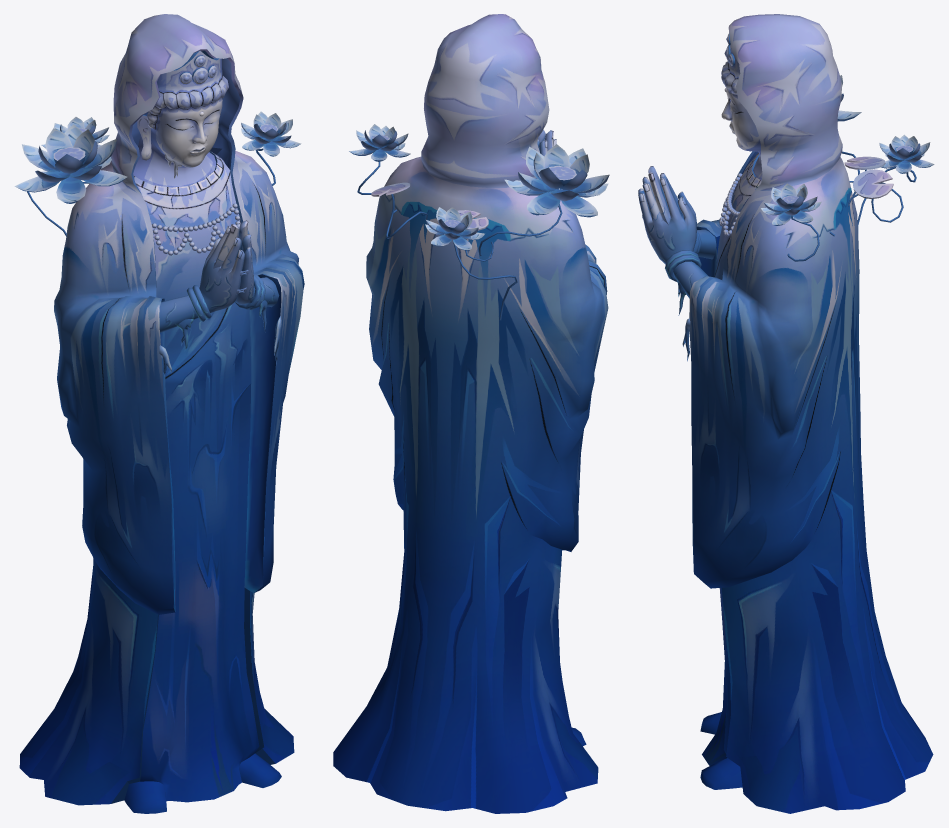
Rendered from role_tongmo_battle02.glb.
3 views of the same model, side by side, from view 1: azimuth 30°, elevation 25°; view 2: azimuth 150°, elevation 25°; view 3: azimuth 270°, elevation 25° (orthographic). The views are drawn at different scales.
Parts seen in each view (by area): view 1: shuilianpusa, shuilian; view 2: shuilianpusa, shuilian; view 3: shuilianpusa, shuilian.
Boxes of the visible parts, x1=… form: shuilianpusa: x1=19, y1=14, x2=304, y2=813; shuilian: x1=14, y1=111, x2=301, y2=236; shuilianpusa: x1=333, y1=14, x2=608, y2=813; shuilian: x1=349, y1=124, x2=609, y2=320; shuilianpusa: x1=638, y1=14, x2=933, y2=813; shuilian: x1=761, y1=75, x2=934, y2=261.
Bounding box in the file's own units: 22.03 × 59.78 × 21.73.
1 material, 1 textured.
